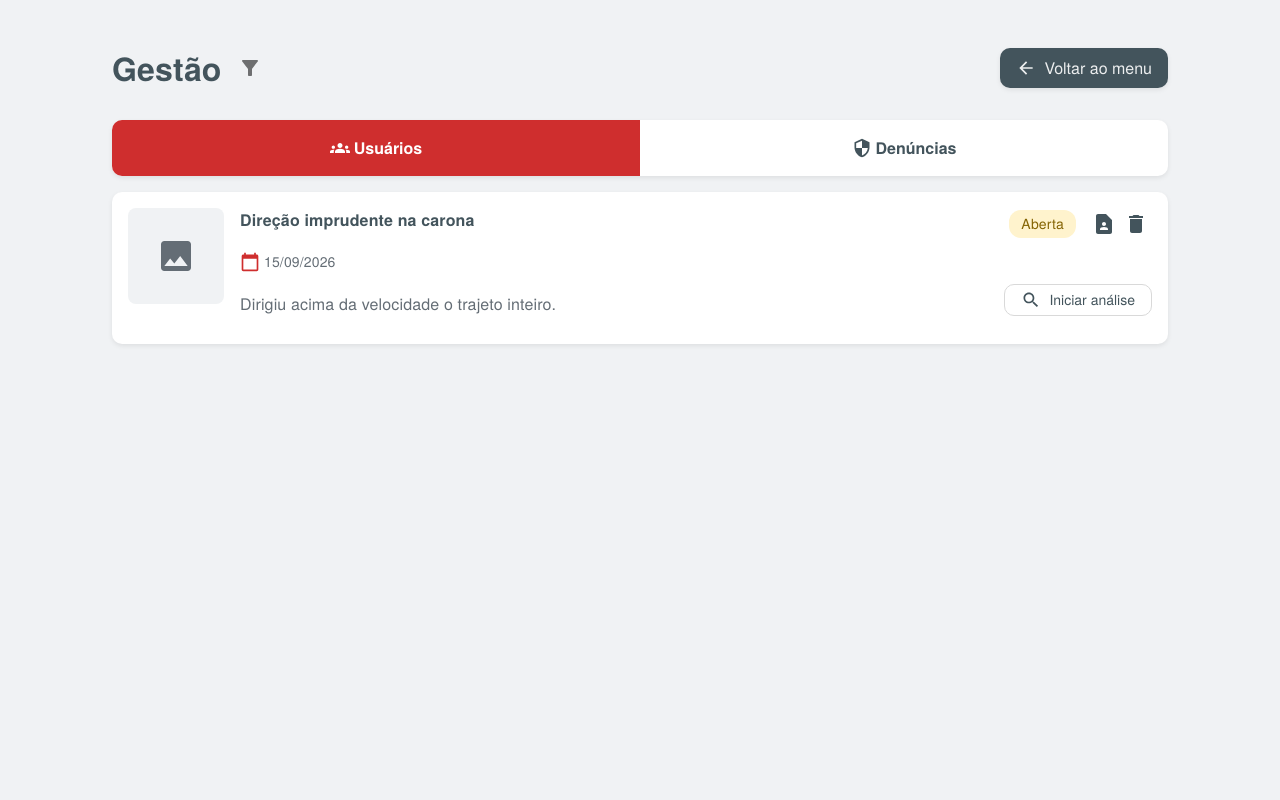
ReportsTab › should reach who reported, which only the management does
Click the button named "Contato" at (1104, 224), box [1088,208,1120,240]
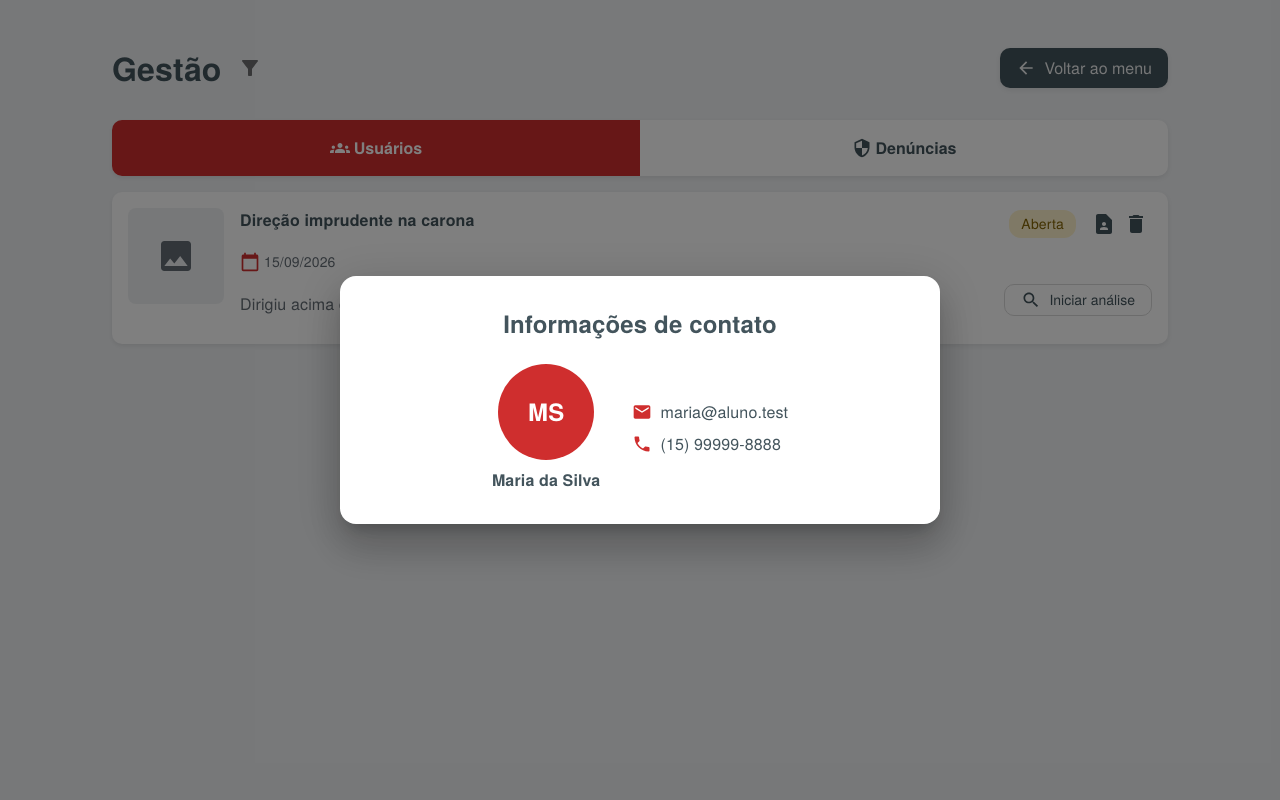
Now the text "Maria da Silva" is shown, box [492,468,600,492]
